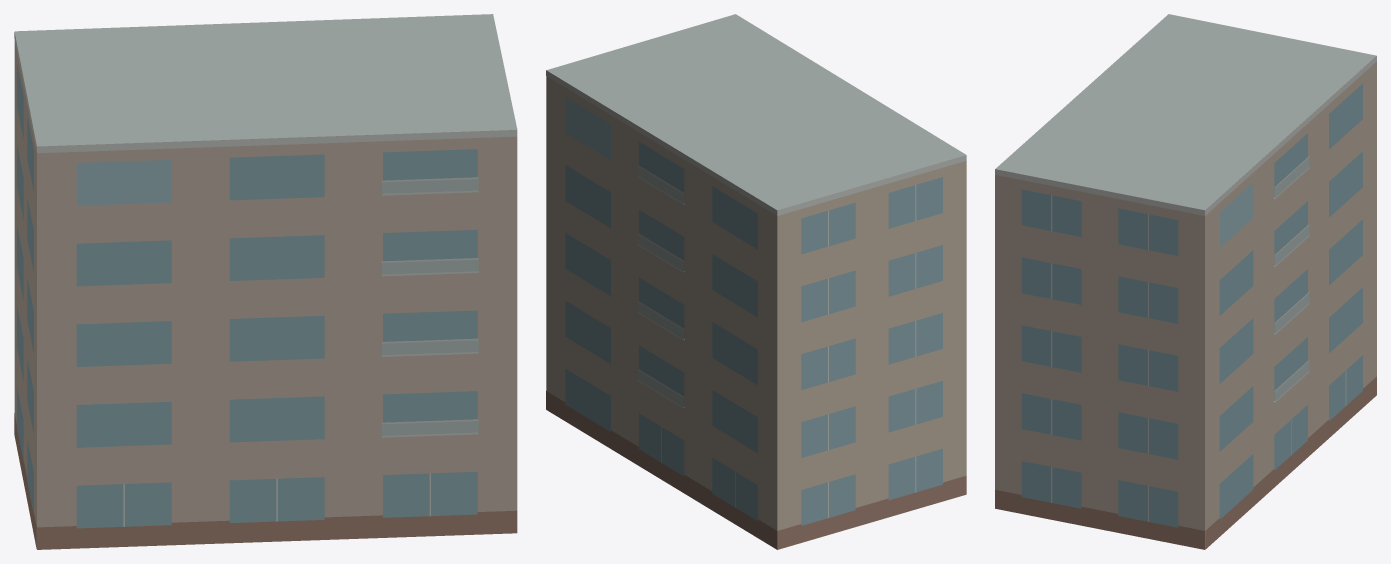
The model's file is survey-upis-32894015.glb.
The picture shows the model from 3 angles, left to right: view 1: azimuth 30°, elevation 25°; view 2: azimuth 150°, elevation 25°; view 3: azimuth 270°, elevation 25°; orthographic projection. The views are drawn at different scales.
Parts seen in each view (by area): view 1: survey-upis-32894015.tmp; view 2: survey-upis-32894015.tmp; view 3: survey-upis-32894015.tmp.
Part boxes in pixels (<box>): survey-upis-32894015.tmp: <box>14,14,517,549</box>; survey-upis-32894015.tmp: <box>546,14,966,549</box>; survey-upis-32894015.tmp: <box>995,14,1376,549</box>.
Bounding box in the file's own units: 18.11 × 14.6 × 14.89.
